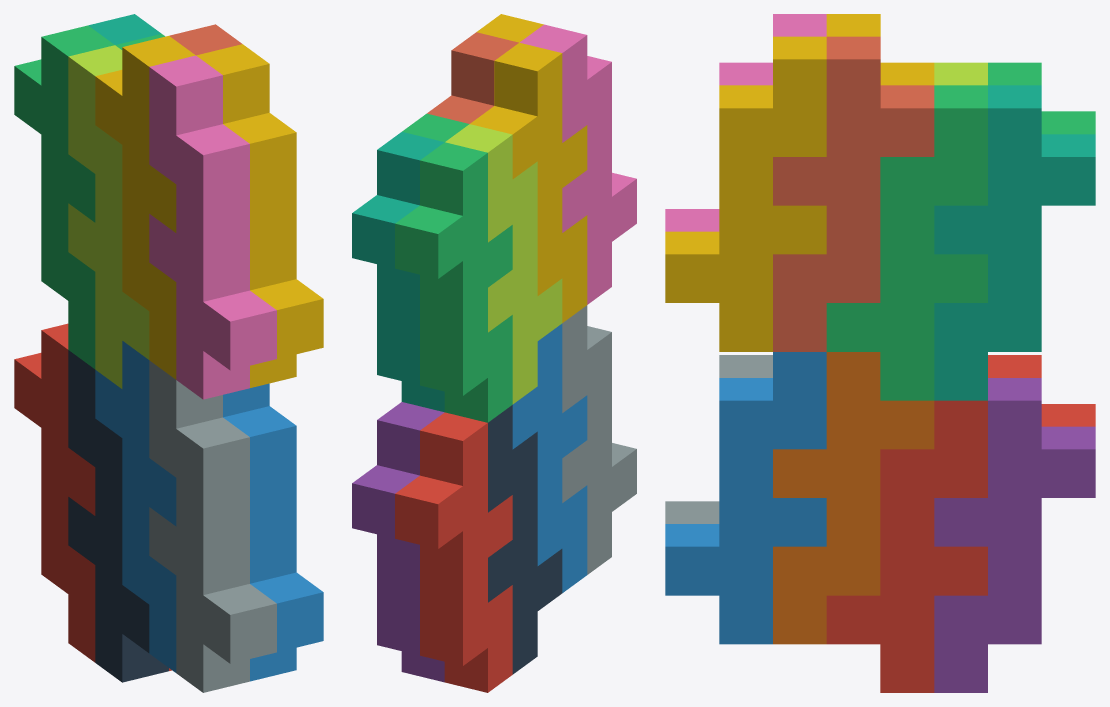
Rendered from tiling.obj.
3 renders of one model, left to right at view 1: azimuth 30°, elevation 25°; view 2: azimuth 150°, elevation 25°; view 3: azimuth 270°, elevation 25°, orthographic. The views are drawn at different scales.
Visible parts, largest first — view 1: copy_2_domain_4, copy_2_domain_2, copy_2_domain_8, copy_2_domain_6, copy_1_domain_3, copy_1_domain_4, copy_2_domain_1, copy_2_domain_3, copy_1_domain_1, copy_1_domain_2, copy_1_domain_7, copy_1_domain_8; view 2: copy_1_domain_1, copy_1_domain_3, copy_1_domain_4, copy_2_domain_4, copy_1_domain_5, copy_1_domain_7, copy_2_domain_3, copy_2_domain_2, copy_1_domain_2, copy_2_domain_1, copy_1_domain_8, copy_2_domain_8 (+1 smaller); view 3: copy_2_domain_8, copy_1_domain_8, copy_1_domain_7, copy_1_domain_5, copy_2_domain_6, copy_2_domain_7, copy_1_domain_6, copy_2_domain_5, copy_2_domain_4, copy_1_domain_3, copy_1_domain_4, copy_1_domain_1 (+2 smaller).
Boxes of the visible parts, x1=… form: copy_2_domain_4: x1=149, y1=55, x2=276, y2=399; copy_2_domain_2: x1=149, y1=360, x2=276, y2=692; copy_2_domain_8: x1=196, y1=44, x2=323, y2=387; copy_2_domain_6: x1=223, y1=383, x2=323, y2=681; copy_1_domain_3: x1=14, y1=25, x2=114, y2=368; copy_1_domain_4: x1=95, y1=36, x2=195, y2=379; copy_2_domain_1: x1=68, y1=350, x2=168, y2=682; copy_2_domain_3: x1=68, y1=45, x2=149, y2=388; copy_1_domain_1: x1=14, y1=323, x2=95, y2=662; copy_1_domain_2: x1=95, y1=341, x2=176, y2=672; copy_1_domain_7: x1=88, y1=14, x2=161, y2=44; copy_1_domain_8: x1=169, y1=24, x2=241, y2=55; copy_1_domain_1: x1=395, y1=412, x2=512, y2=692; copy_1_domain_3: x1=395, y1=142, x2=512, y2=422; copy_1_domain_4: x1=470, y1=42, x2=587, y2=322; copy_2_domain_4: x1=520, y1=24, x2=636, y2=304; copy_1_domain_5: x1=352, y1=402, x2=444, y2=682; copy_1_domain_7: x1=352, y1=132, x2=444, y2=412; copy_2_domain_3: x1=445, y1=124, x2=562, y2=404; copy_2_domain_2: x1=562, y1=305, x2=636, y2=574; copy_1_domain_2: x1=512, y1=323, x2=587, y2=592; copy_2_domain_1: x1=488, y1=405, x2=562, y2=674; copy_1_domain_8: x1=427, y1=32, x2=518, y2=123; copy_2_domain_8: x1=476, y1=14, x2=543, y2=42; copy_2_domain_8: x1=665, y1=36, x2=826, y2=351; copy_1_domain_8: x1=773, y1=36, x2=934, y2=351; copy_1_domain_7: x1=934, y1=85, x2=1095, y2=400; copy_1_domain_5: x1=934, y1=378, x2=1095, y2=692; copy_2_domain_6: x1=665, y1=352, x2=826, y2=644; copy_2_domain_7: x1=826, y1=85, x2=987, y2=400; copy_1_domain_6: x1=773, y1=352, x2=934, y2=644; copy_2_domain_5: x1=826, y1=400, x2=987, y2=692; copy_2_domain_4: x1=665, y1=14, x2=826, y2=231; copy_1_domain_3: x1=988, y1=62, x2=1095, y2=134; copy_1_domain_4: x1=826, y1=14, x2=934, y2=85; copy_1_domain_1: x1=988, y1=355, x2=1095, y2=426.
Size of the model in its own units: 2 by 13 by 8.
